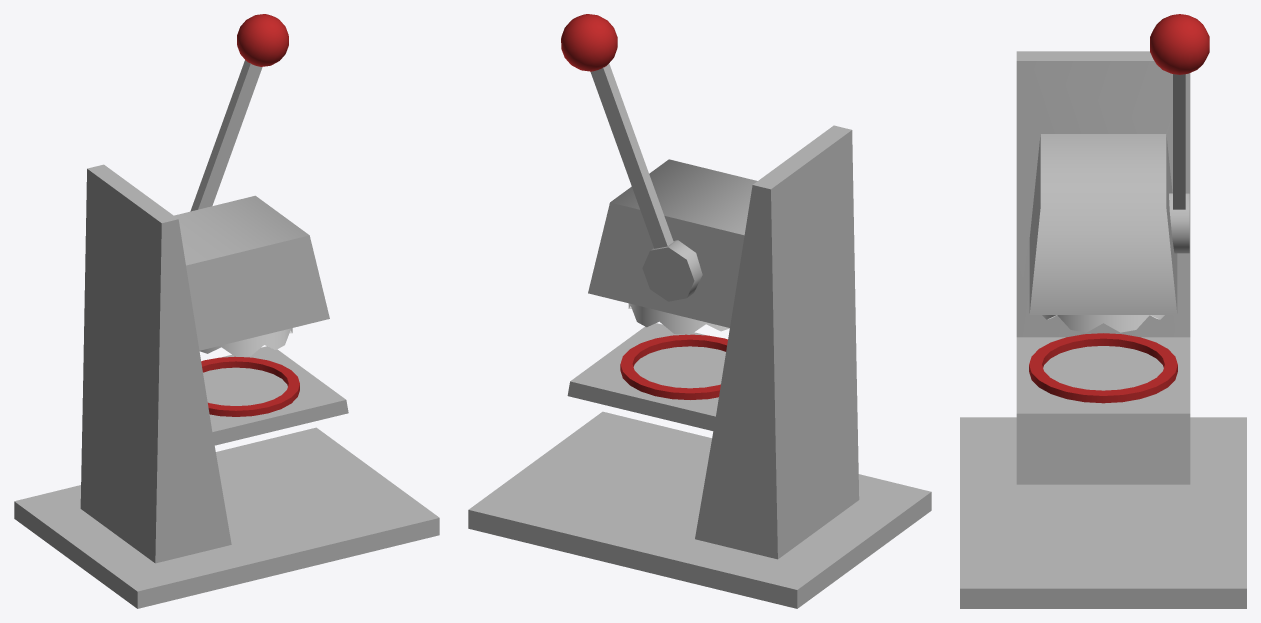
The model's file is CanOpener.fbx.
3 renders of one model, left to right at view 1: azimuth 30°, elevation 25°; view 2: azimuth 150°, elevation 25°; view 3: azimuth 270°, elevation 25°, orthographic. The views are drawn at different scales.
Parts seen in each view (by area): view 1: CanOpener_Main, Lever, Can_Guide, Teeth_Piece; view 2: CanOpener_Main, Lever, Can_Guide, Teeth_Piece; view 3: CanOpener_Main, Lever, Can_Guide, Teeth_Piece.
Boxes of the visible parts, x1,y1,x2,y2 form: CanOpener_Main: [14, 164, 439, 608]; Lever: [190, 14, 288, 211]; Can_Guide: [201, 356, 299, 416]; Teeth_Piece: [200, 328, 292, 356]; CanOpener_Main: [468, 125, 931, 608]; Lever: [561, 14, 702, 301]; Can_Guide: [620, 334, 727, 399]; Teeth_Piece: [628, 303, 729, 334]; CanOpener_Main: [960, 51, 1246, 608]; Lever: [1150, 14, 1209, 253]; Can_Guide: [1029, 333, 1177, 403]; Teeth_Piece: [1042, 315, 1164, 332].
Size of the model in its own units: 44.13 by 65.51 by 31.19.
